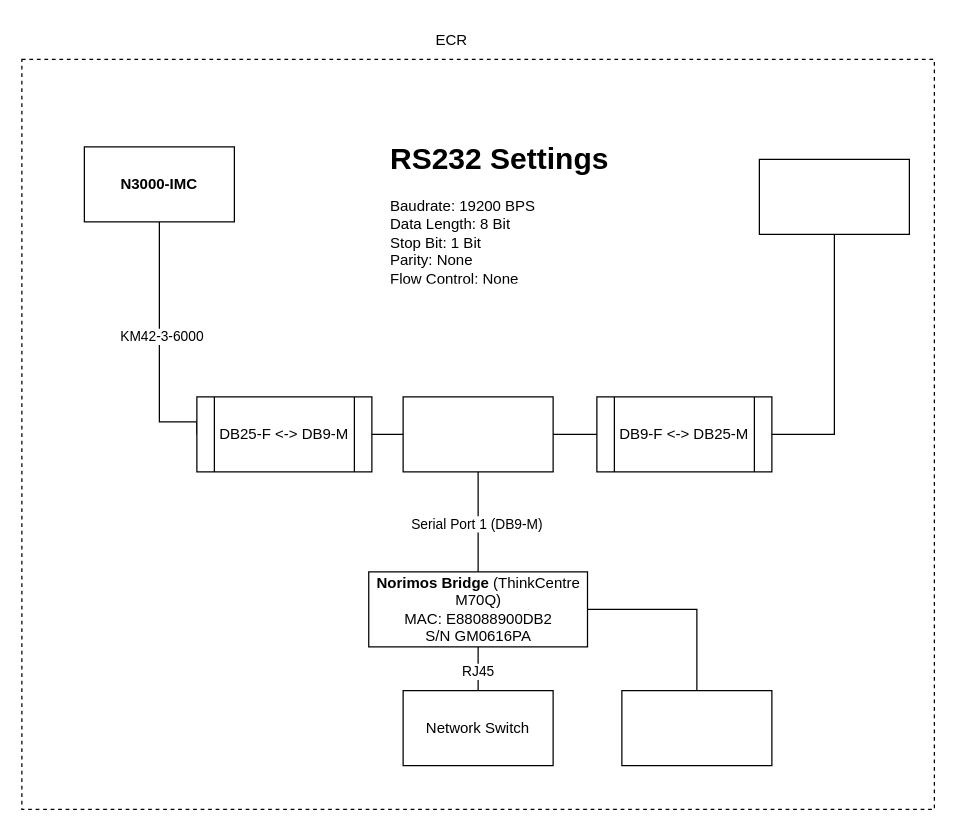
Some shapes in this 956 by 831 pixel diagram are drawn without their labels. The shapes that lost their labels are listed below. From the top down, each one's centre as x and y in pixels, then its label:
At (833,196): "Epson LQ350 (Printer)".
At (477,434): "RS232 Monitor Cable Halfduplex".
At (696,727): "UPS 230V".
